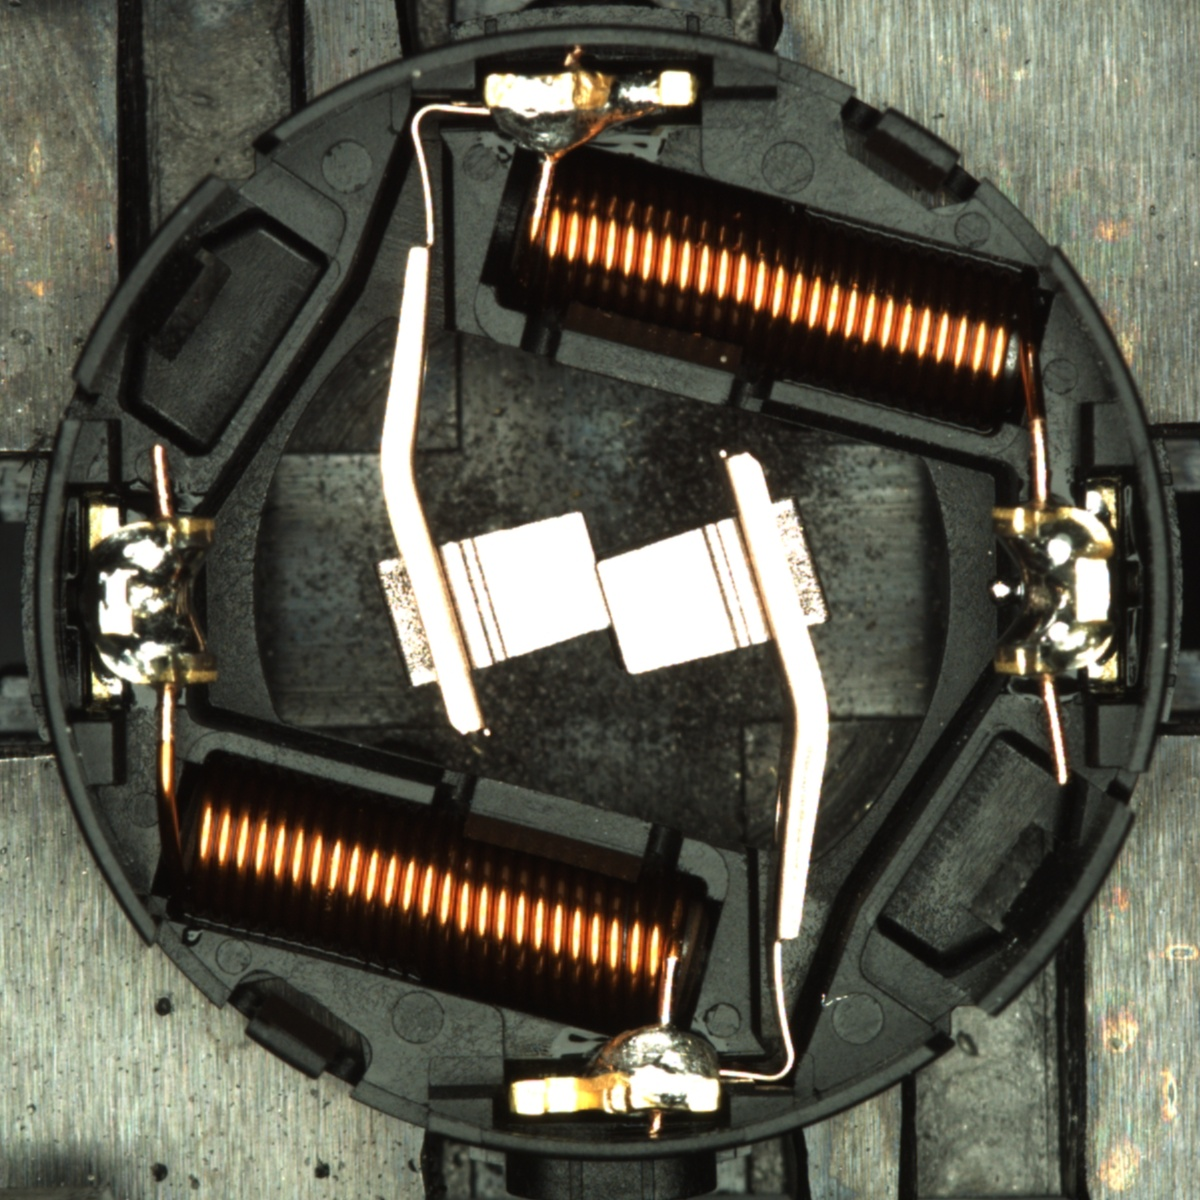1: (256, 31, 485, 255), (714, 929, 943, 1153)
2: (714, 31, 943, 255), (256, 929, 485, 1153)
3: (26, 255, 256, 480), (943, 704, 1173, 929)
4: (256, 255, 485, 480), (714, 704, 943, 929)
5: (485, 143, 714, 368), (485, 816, 714, 1041)
6: (714, 255, 943, 480), (256, 704, 485, 929)
7: (943, 255, 1173, 480), (26, 704, 256, 929)
cacbon: (399, 499, 800, 685)
chau_dien: (82, 498, 221, 699), (984, 487, 1124, 686)
hat_chi: (987, 576, 1016, 606)
tay_choi: (507, 1019, 722, 1119), (483, 65, 700, 164)
thanh_de: (955, 785, 1143, 1032), (60, 164, 245, 405)
